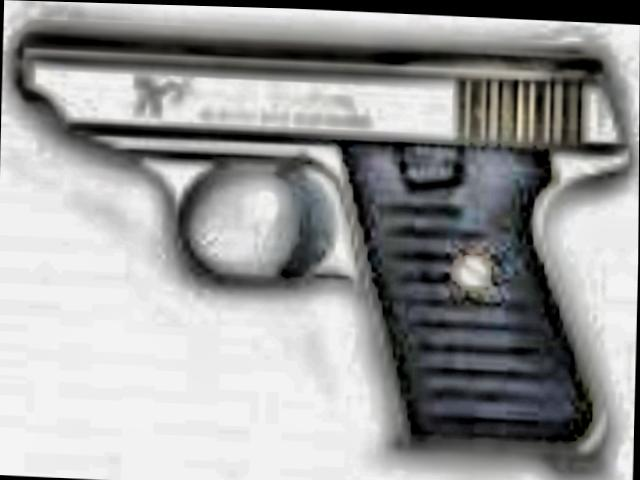pistol: (2, 19, 627, 464)
